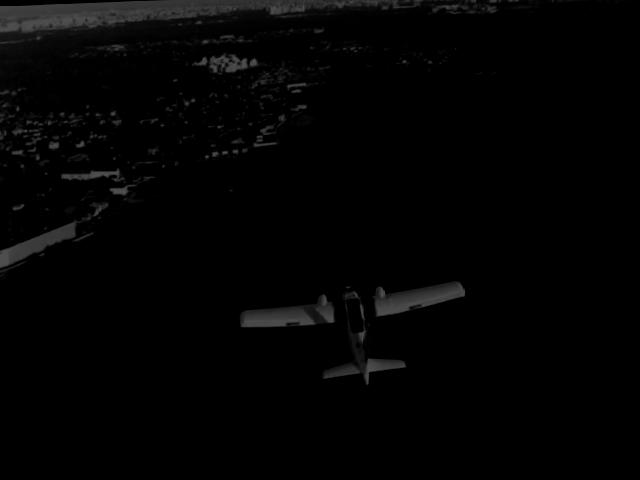hedef: (237, 276, 479, 395)
